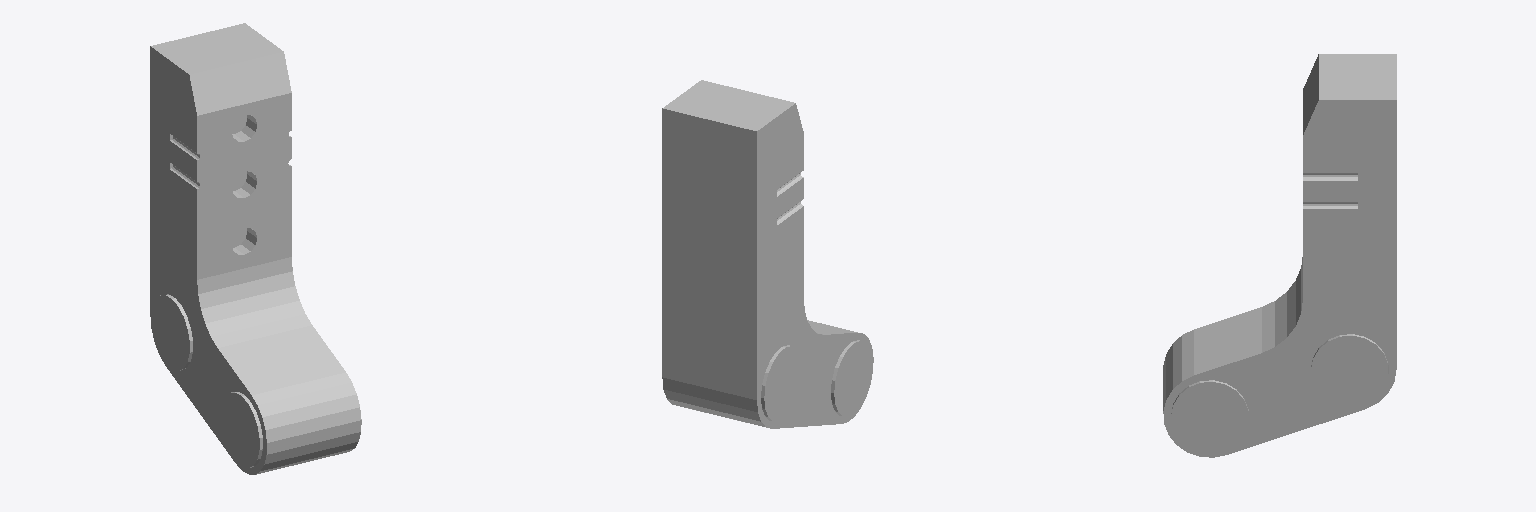
The model's file is robotiq_arg2f_140_inner_finger_vis.obj.
3 views of the same model, side by side, from view 1: azimuth 30°, elevation 25°; view 2: azimuth 150°, elevation 25°; view 3: azimuth 270°, elevation 25° (orthographic).
Visible parts, largest first — view 1: Robotiq_Arg2F_140_Inner_Finger_Vis_Robotiq_Arg2F_140_Inner_Finge; view 2: Robotiq_Arg2F_140_Inner_Finger_Vis_Robotiq_Arg2F_140_Inner_Finge; view 3: Robotiq_Arg2F_140_Inner_Finger_Vis_Robotiq_Arg2F_140_Inner_Finge.
Boxes of the visible parts, box(x1,y1,x2,y2) form: Robotiq_Arg2F_140_Inner_Finger_Vis_Robotiq_Arg2F_140_Inner_Finge: box(150, 23, 361, 474); Robotiq_Arg2F_140_Inner_Finger_Vis_Robotiq_Arg2F_140_Inner_Finge: box(662, 80, 873, 428); Robotiq_Arg2F_140_Inner_Finger_Vis_Robotiq_Arg2F_140_Inner_Finge: box(1163, 54, 1396, 457).
Bounding box in the file's own units: 0.015 × 0.0505 × 0.0299.